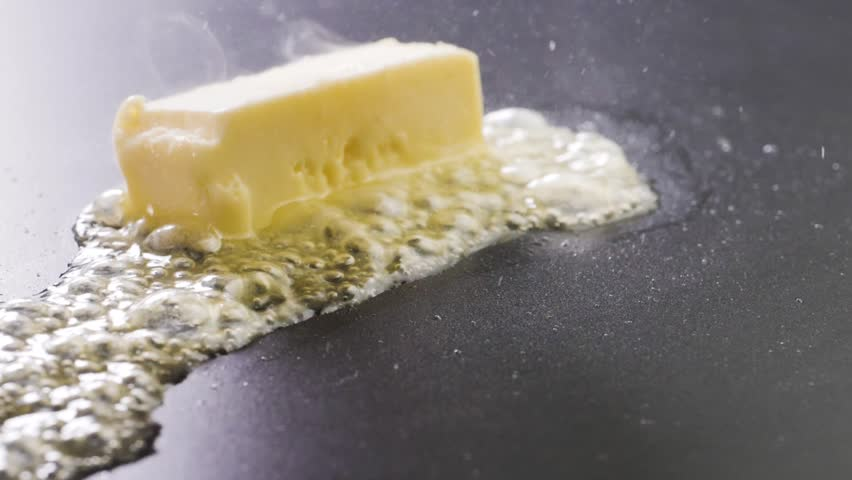Butter: (112, 44, 483, 219)
